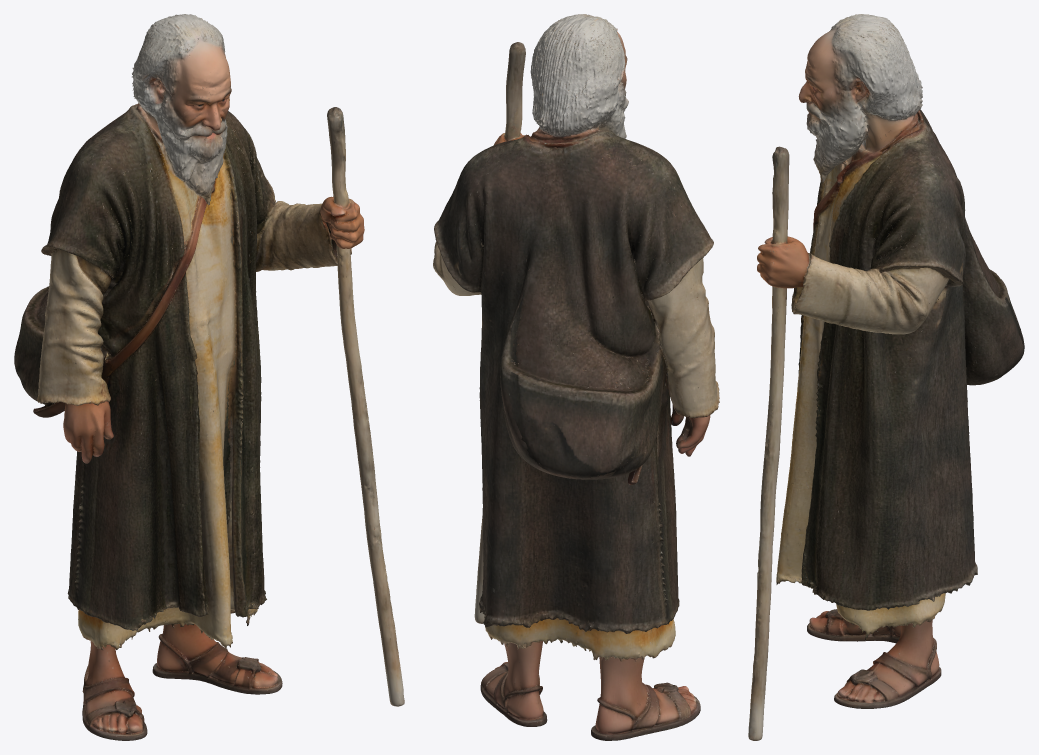
Rendered from Meshy_AI_Moshe_0205054824_texture.glb.
The picture shows the model from 3 angles, left to right: view 1: azimuth 30°, elevation 25°; view 2: azimuth 150°, elevation 25°; view 3: azimuth 270°, elevation 25°; orthographic projection. The views are drawn at different scales.
Size of the model in its own units: 0.9277 by 2 by 0.7719.
1 material, 1 textured.
